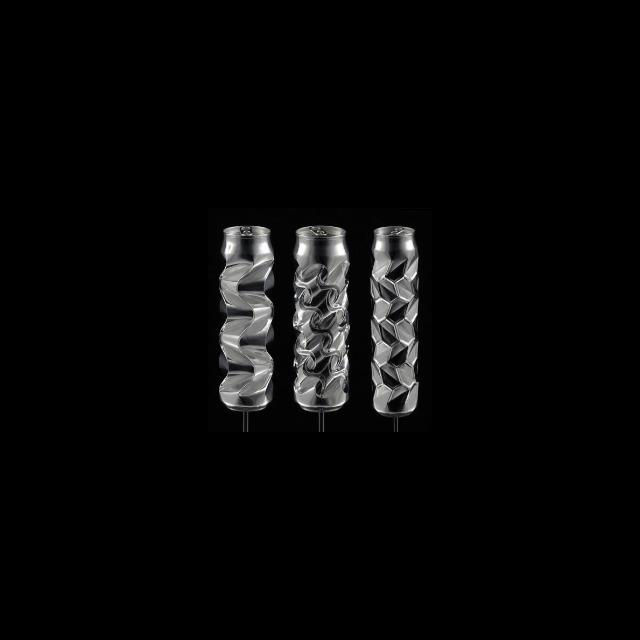metal: (215, 218, 278, 418), (291, 219, 355, 415), (367, 222, 422, 417)
